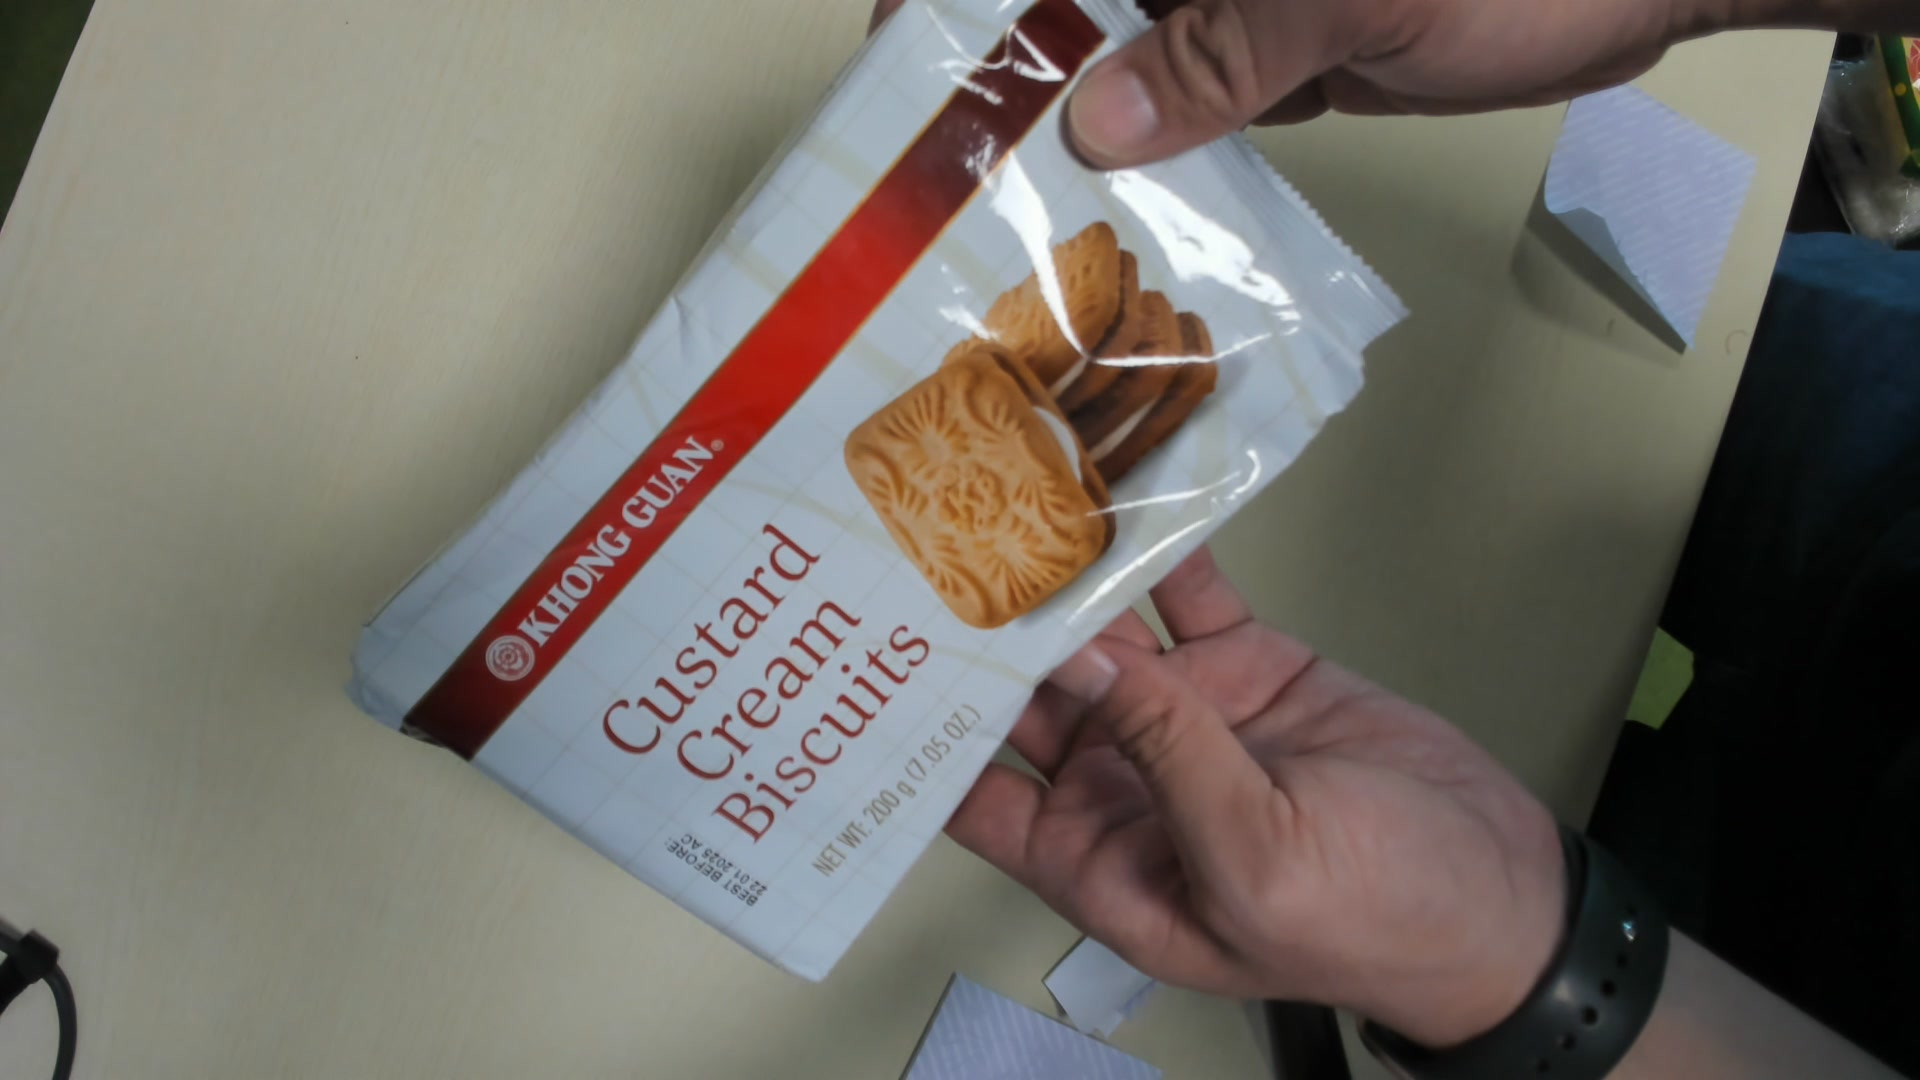BiscuitsCrackersCookies_200-299g_Halal_NonHealthy: (353, 5, 1411, 1000)
